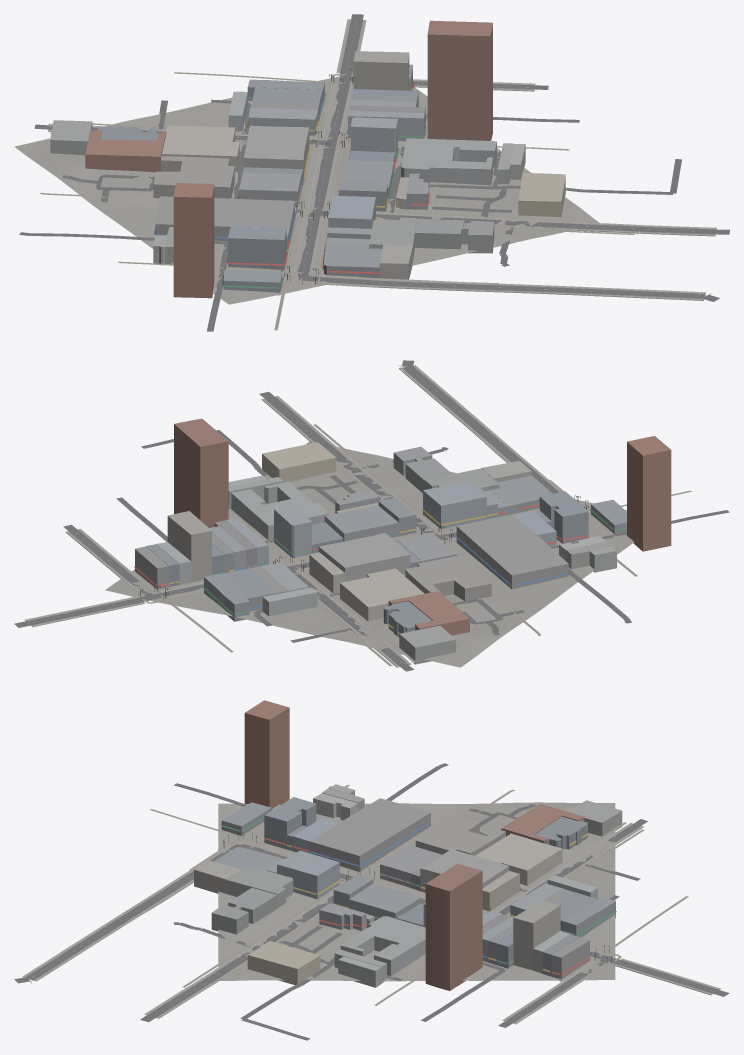
The model's file is tile_-7_2.glb.
3 renders of one model, top to bottom at view 1: azimuth 30°, elevation 25°; view 2: azimuth 150°, elevation 25°; view 3: azimuth 270°, elevation 25°, orthographic. The views are drawn at different scales.
Visible parts, largest first — view 1: buildings, terrain, roads, sidewalks, paths, awnings; view 2: buildings, terrain, roads, sidewalks, paths, awnings; view 3: buildings, terrain, roads, sidewalks, paths, awnings.
Boxes of the visible parts, <box> form: buildings: <box>50,20,565,298</box>; terrain: <box>14,74,599,304</box>; roads: <box>19,14,729,331</box>; sidewalks: <box>48,19,716,300</box>; paths: <box>40,72,634,330</box>; awnings: <box>154,83,429,288</box>; buildings: <box>135,418,671,664</box>; terrain: <box>105,441,633,667</box>; roads: <box>14,360,729,671</box>; sidewalks: <box>24,365,561,667</box>; paths: <box>132,424,691,666</box>; awnings: <box>134,504,626,634</box>; buildings: <box>194,700,622,990</box>; terrain: <box>218,802,615,981</box>; roads: <box>14,763,729,1040</box>; sidewalks: <box>22,823,721,1024</box>; paths: <box>145,785,688,1005</box>; awnings: <box>221,817,616,975</box>.
Bounding box in the file's own units: 405 × 72.47 × 462.
